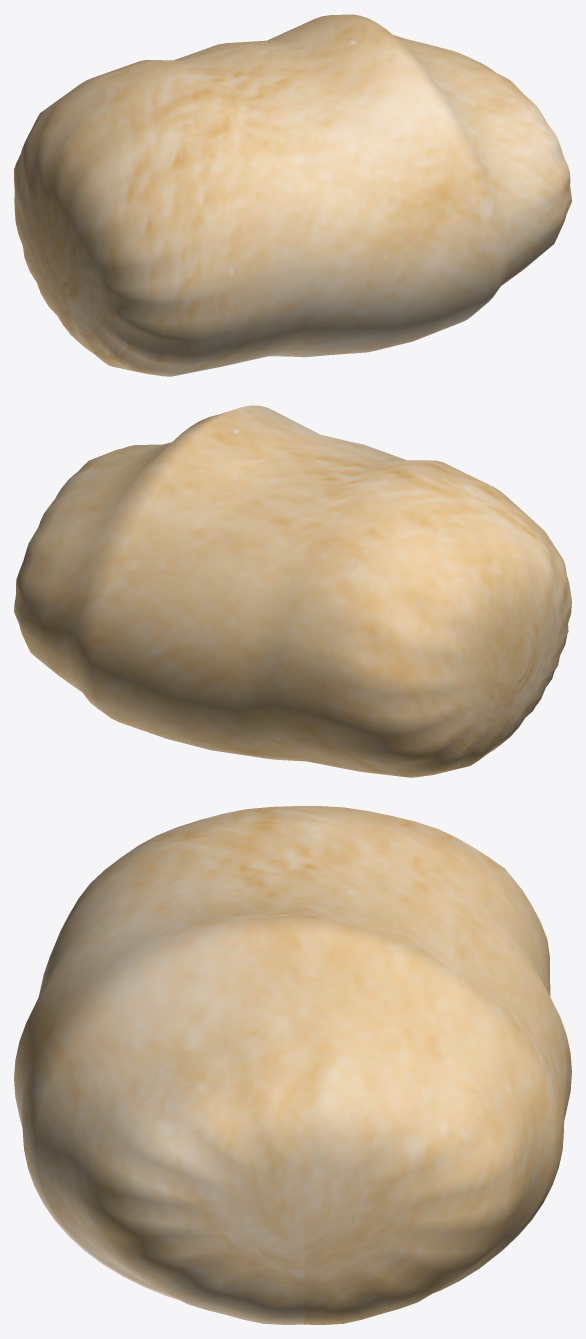
The model's file is CutDough3.fbx.
3 views of the same model, one above another, from view 1: azimuth 30°, elevation 25°; view 2: azimuth 150°, elevation 25°; view 3: azimuth 270°, elevation 25° (orthographic). The views are drawn at different scales.
Parts seen in each view (by area): view 1: cut2; view 2: cut2; view 3: cut2.
Boxes of the visible parts, left/top/right/bottom form: cut2: left=14, top=14, right=571, bottom=376; cut2: left=14, top=405, right=571, bottom=777; cut2: left=14, top=806, right=571, bottom=1324.
Size of the model in its own units: 4.05 by 2.44 by 3.18.
1 material, 1 textured.
